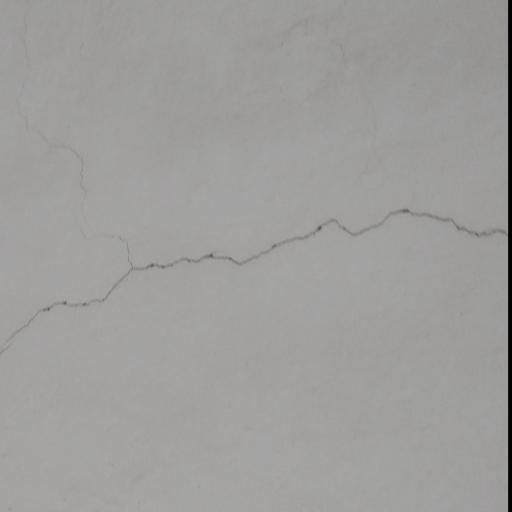minor_crack: (0, 97, 512, 388)
